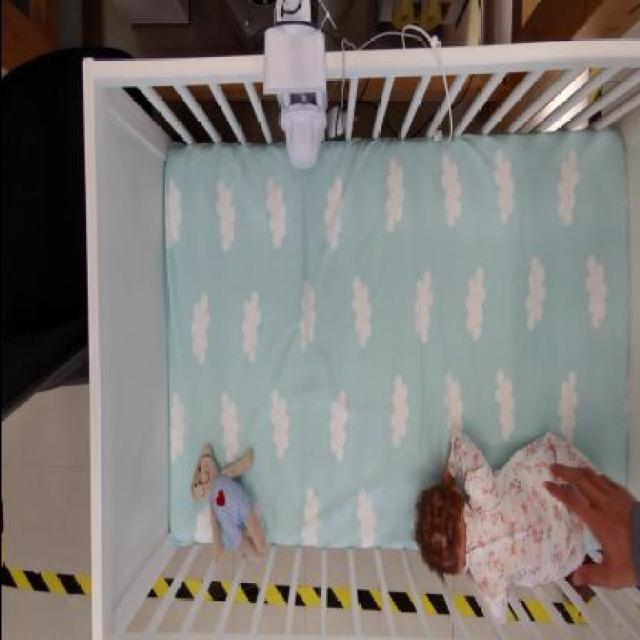baby: (410, 427, 615, 625)
